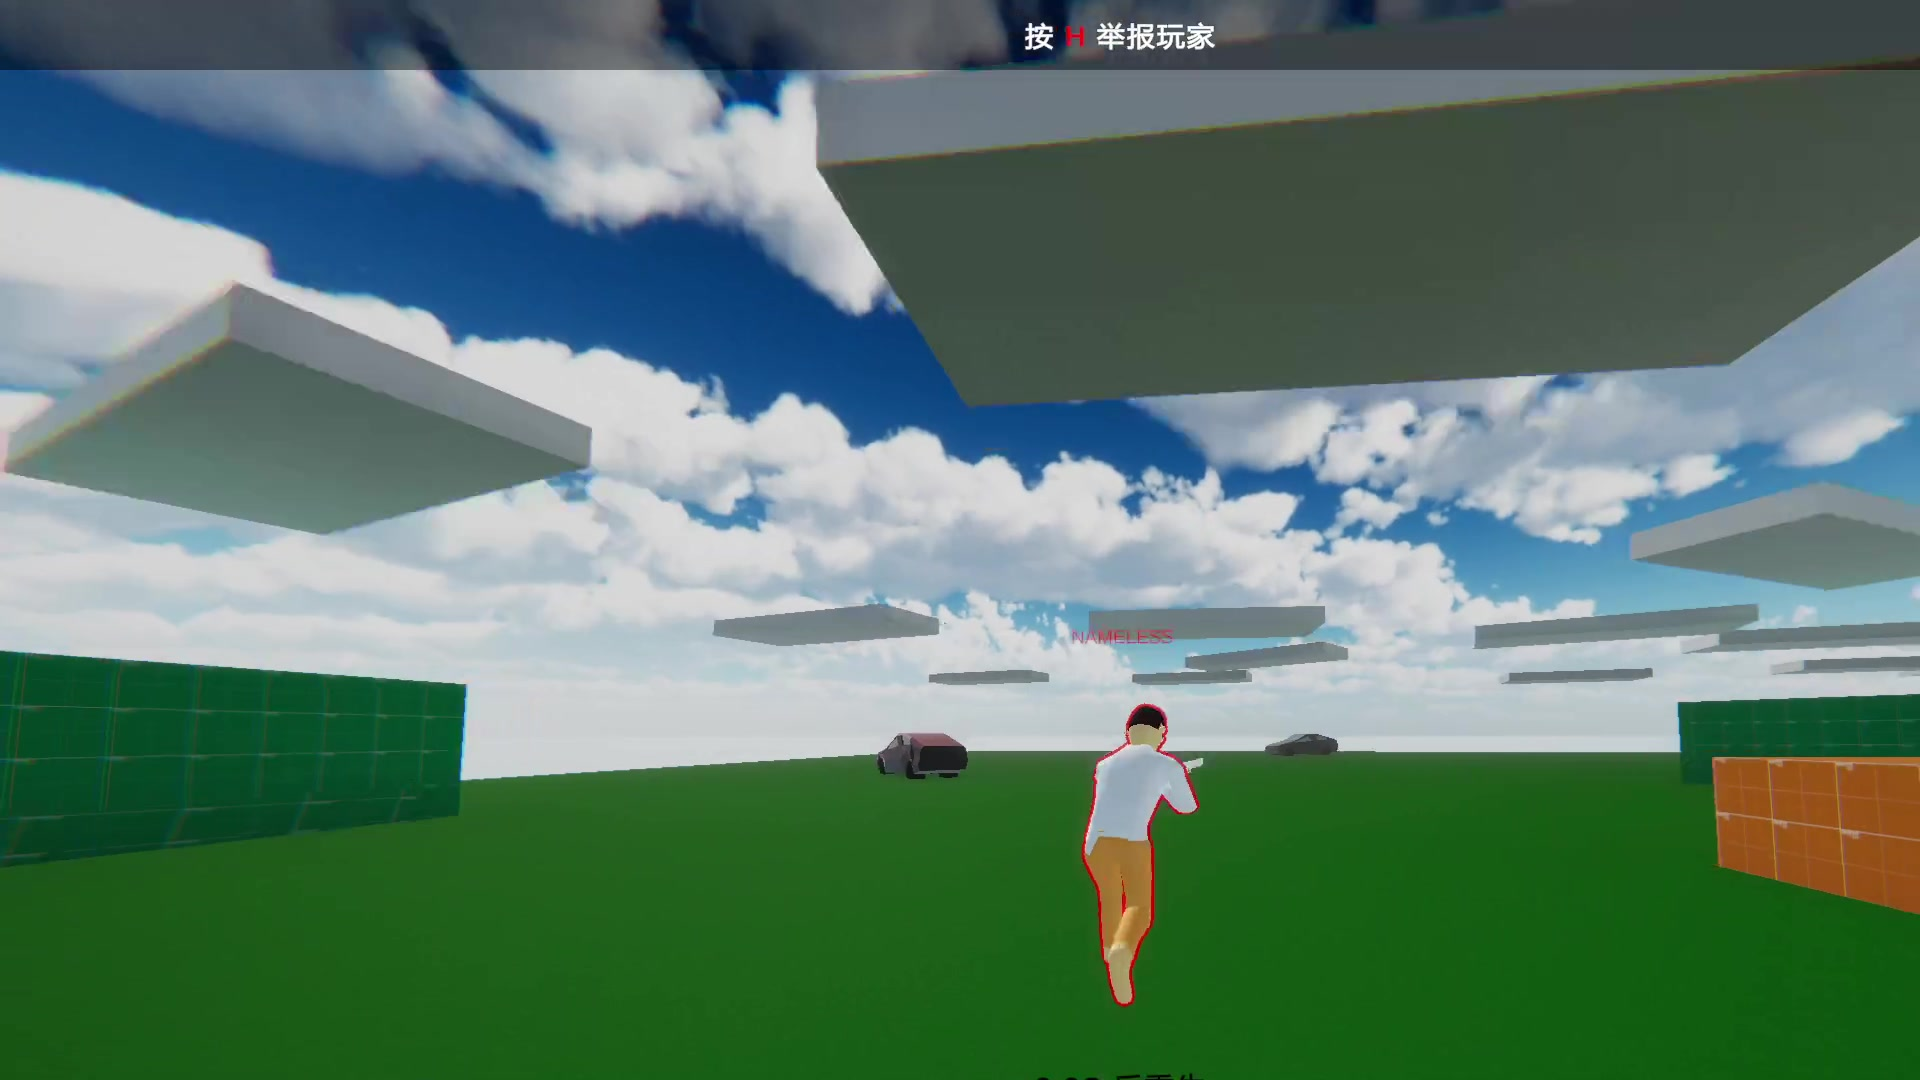human: (1070, 687, 1199, 1019)
